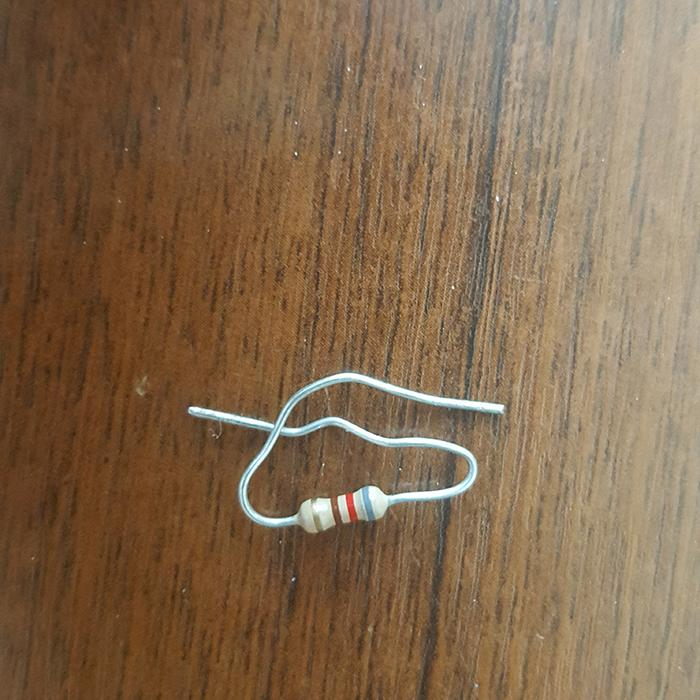resistor: (294, 484, 390, 533)
